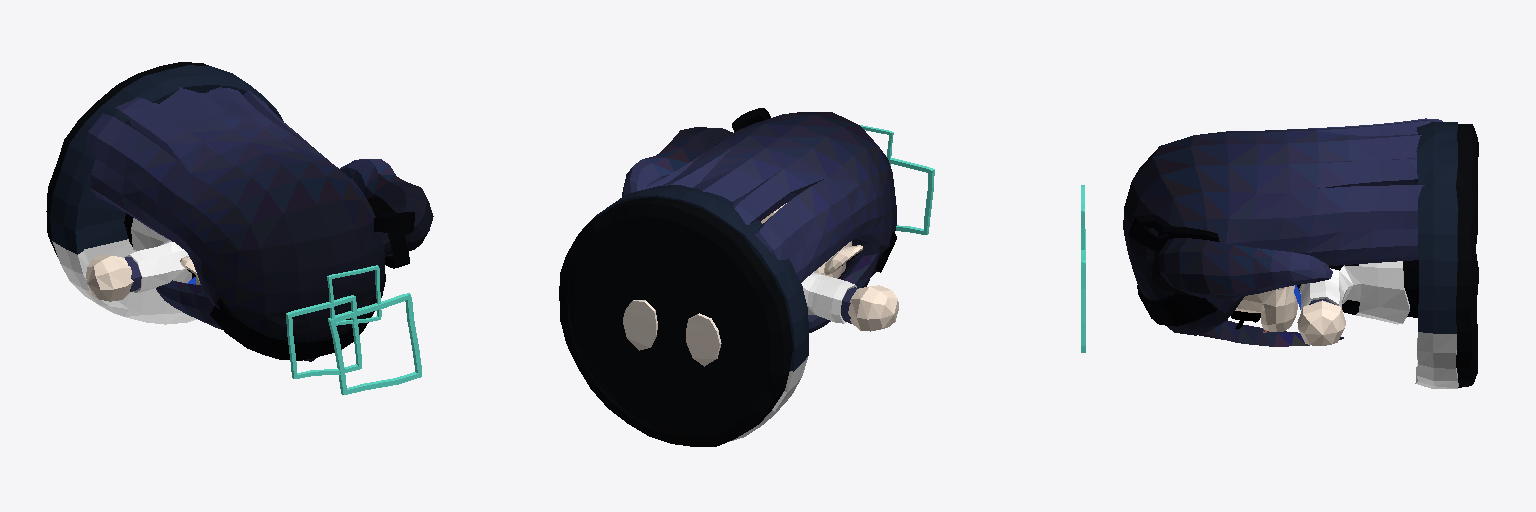
The model's file is Arisu.obj.
The picture shows the model from 3 angles: view 1: azimuth 30°, elevation 25°; view 2: azimuth 150°, elevation 25°; view 3: azimuth 270°, elevation 25°; orthographic projection.
Parts seen in each view (by area): view 1: Hair, Vacuum, Body, Ring; view 2: Vacuum, Hair, Body, Ring, Head; view 3: Hair, Vacuum, Body, Head, Ring.
Part boxes in pixels (bbox=[...]): Hair: bbox=[85, 87, 433, 361]; Vacuum: bbox=[46, 62, 283, 324]; Body: bbox=[86, 213, 195, 301]; Ring: bbox=[286, 265, 421, 394]; Vacuum: bbox=[559, 185, 808, 446]; Hair: bbox=[622, 108, 896, 332]; Body: bbox=[623, 272, 898, 366]; Ring: bbox=[860, 125, 934, 234]; Head: bbox=[761, 203, 862, 278]; Hair: bbox=[1123, 118, 1442, 346]; Vacuum: bbox=[1415, 122, 1478, 388]; Body: bbox=[1294, 260, 1418, 345]; Head: bbox=[1235, 285, 1297, 331]; Ring: bbox=[1081, 185, 1085, 352].
Bounding box in the file's own units: 291 × 231 × 342.